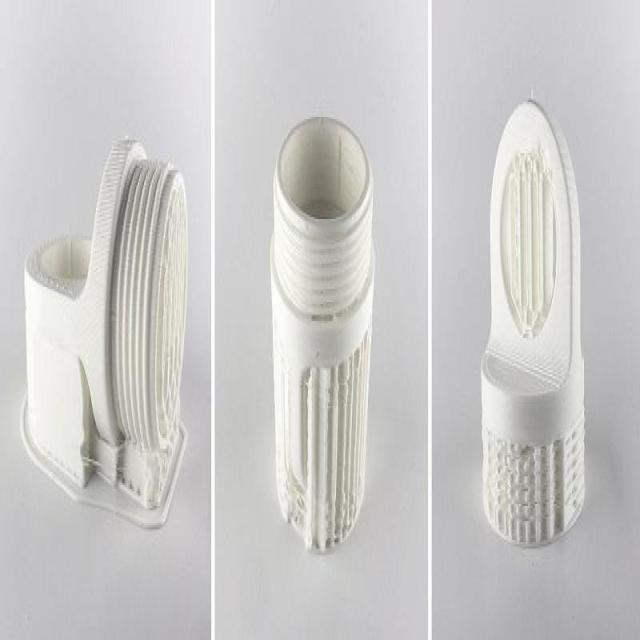Without deffect: (13, 108, 195, 557), (250, 83, 378, 586), (484, 74, 588, 564)
